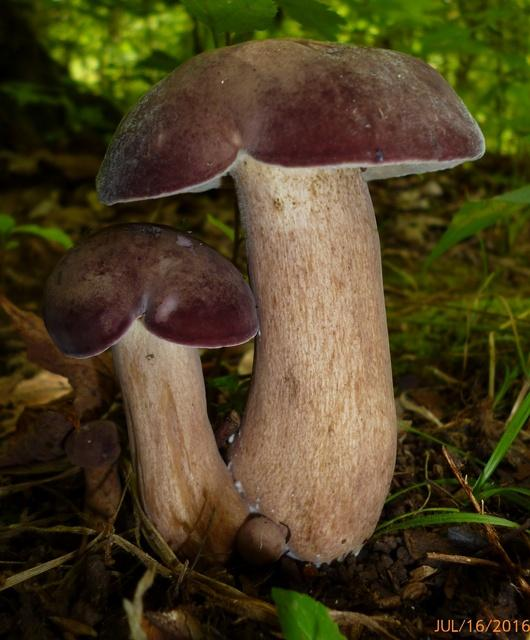poisonous_mushroom: (93, 36, 486, 567), (41, 220, 261, 565)
